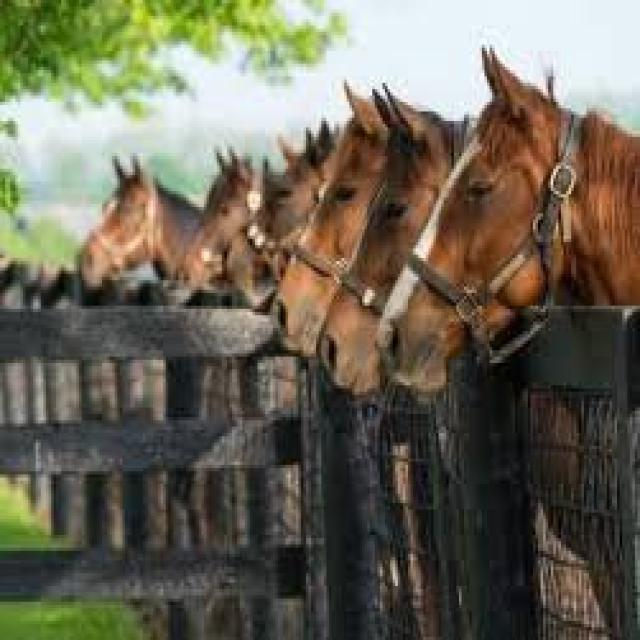Horse: (382, 28, 640, 394), (276, 100, 390, 390), (80, 146, 162, 312), (176, 133, 240, 288)
